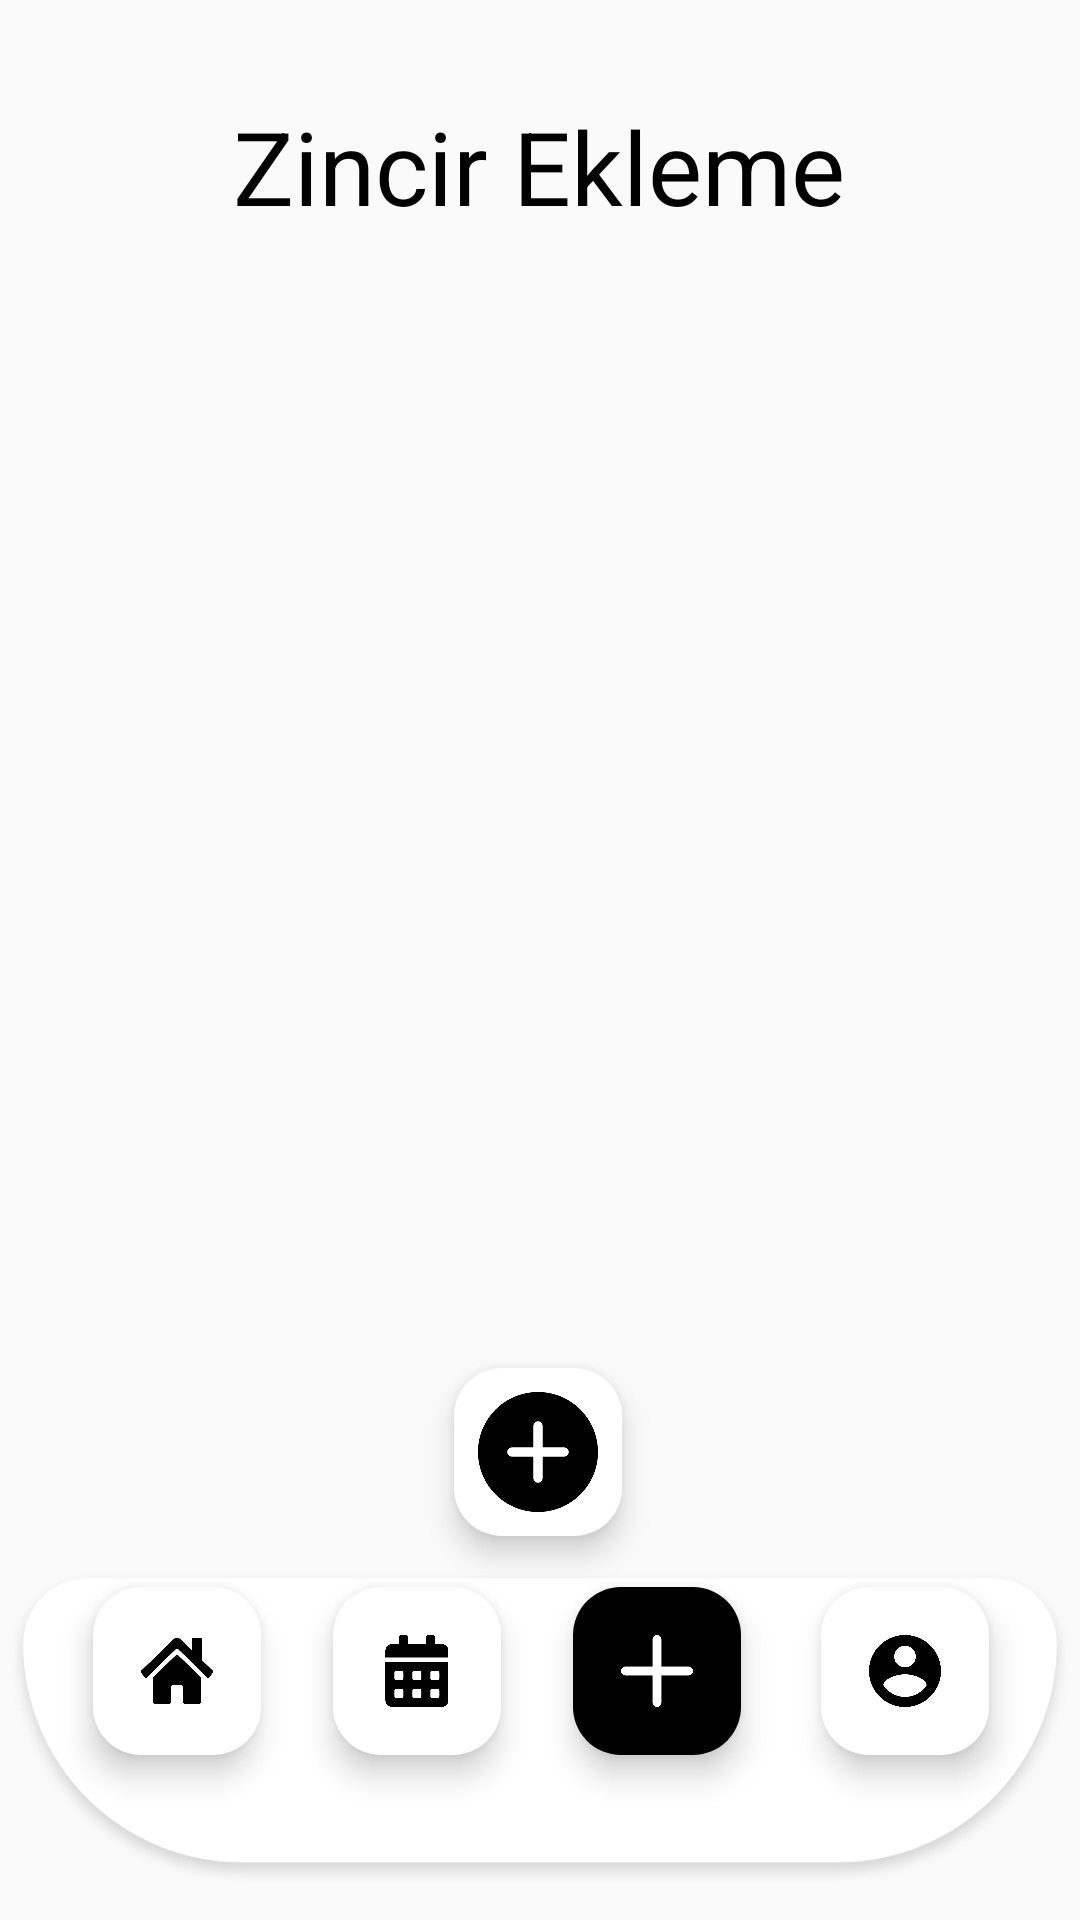

Screen size 1080×1920. Icon name, then its box in pixels as (x1,y1,x2,y2):
add: (471,1392,604,1536)
calendar: (385,1635,501,1717)
